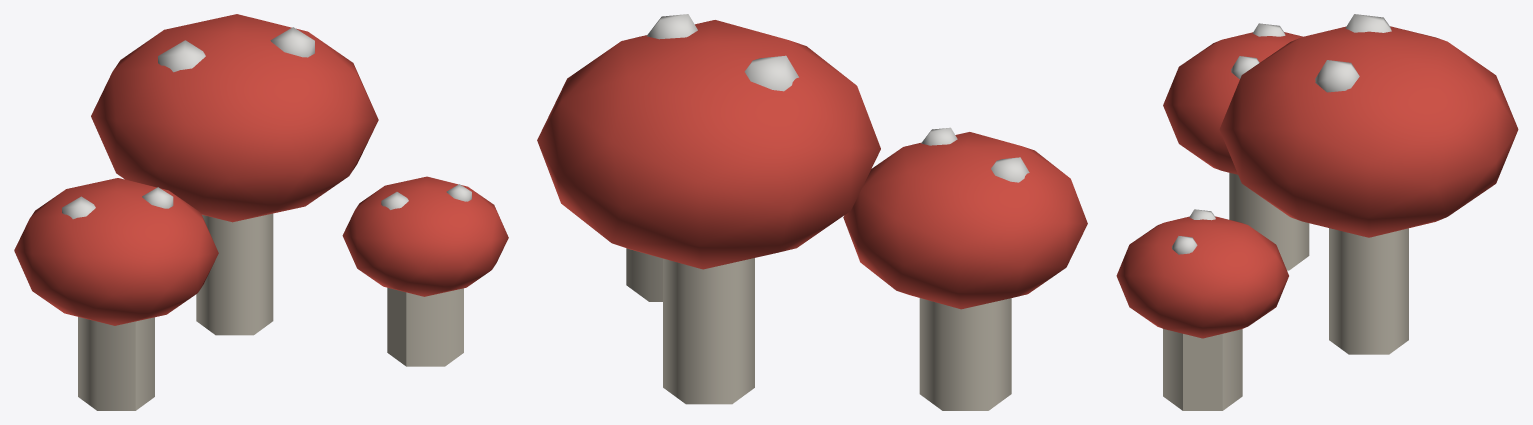
File: mushrooms.fbx
3 views of the same model, side by side, from view 1: azimuth 30°, elevation 25°; view 2: azimuth 150°, elevation 25°; view 3: azimuth 270°, elevation 25° (orthographic). The views are drawn at different scales.
Parts seen in each view (by area): view 1: mushrooms; view 2: mushrooms; view 3: mushrooms.
Boxes of the visible parts, x1,y1,x2,y2 form: mushrooms: (14,14,508,410); mushrooms: (537,14,1087,410); mushrooms: (1116,14,1518,410).
Size of the model in its own units: 0.1552 by 0.0994 by 0.121.
